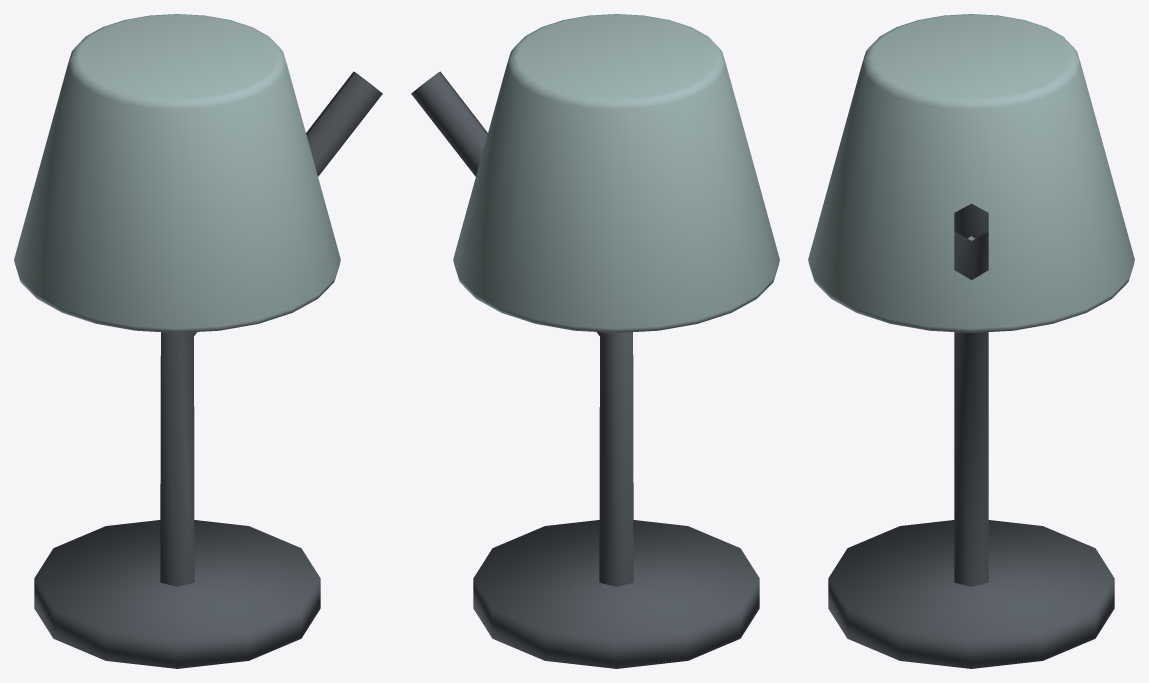
File: atelier-desk-lamp.glb
3 renders of one model, left to right at view 1: azimuth 30°, elevation 25°; view 2: azimuth 150°, elevation 25°; view 3: azimuth 270°, elevation 25°, orthographic.
Visible parts, largest first — view 1: fabric.060, metal.067; view 2: fabric.060, metal.067; view 3: fabric.060, metal.067.
Boxes of the visible parts, x1,y1,x2,y2 form: fabric.060: (14,14,340,332); metal.067: (34,71,382,668); fabric.060: (453,14,779,332); metal.067: (411,71,759,668); fabric.060: (808,14,1134,332); metal.067: (828,203,1114,668).
Size of the model in its own units: 0.361 by 0.5525 by 0.2966.
